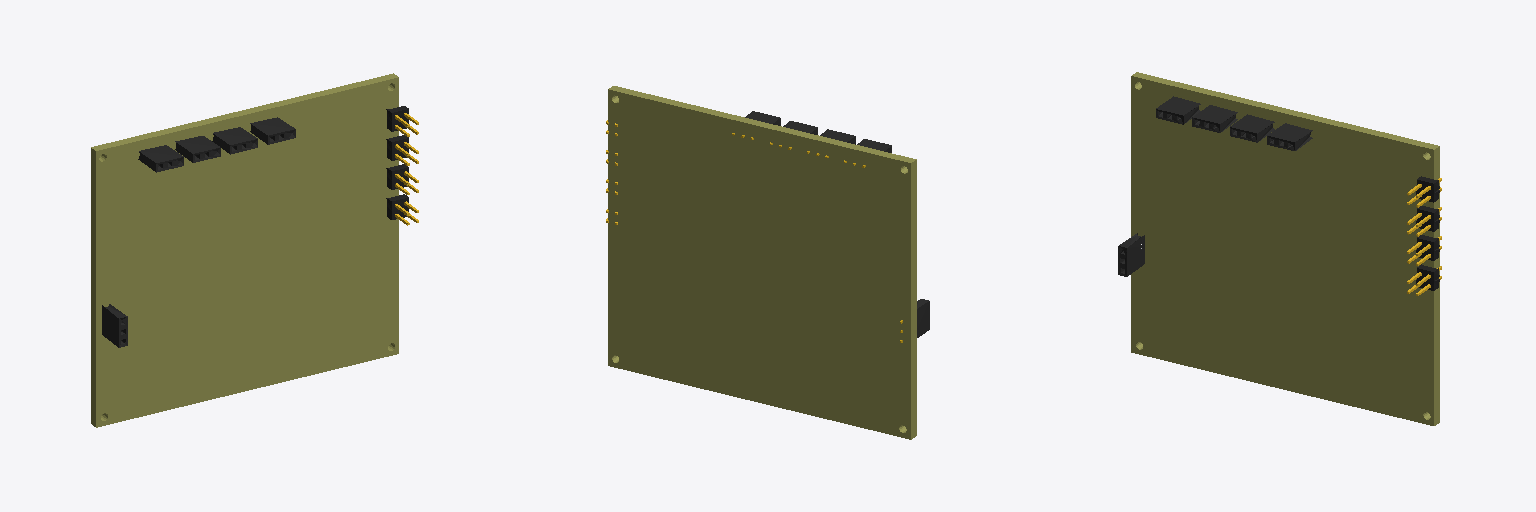
The model's file is OBJ_dron_finish.obj.
The picture shows the model from 3 angles: view 1: azimuth 30°, elevation 25°; view 2: azimuth 150°, elevation 25°; view 3: azimuth 330°, elevation 25°; orthographic projection.
Bounding box in the file's own units: 332 × 284 × 46.06.